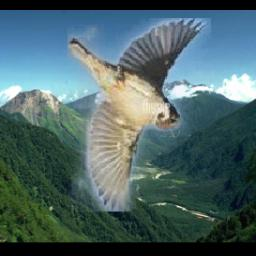Sparrow: (67, 19, 211, 212)
